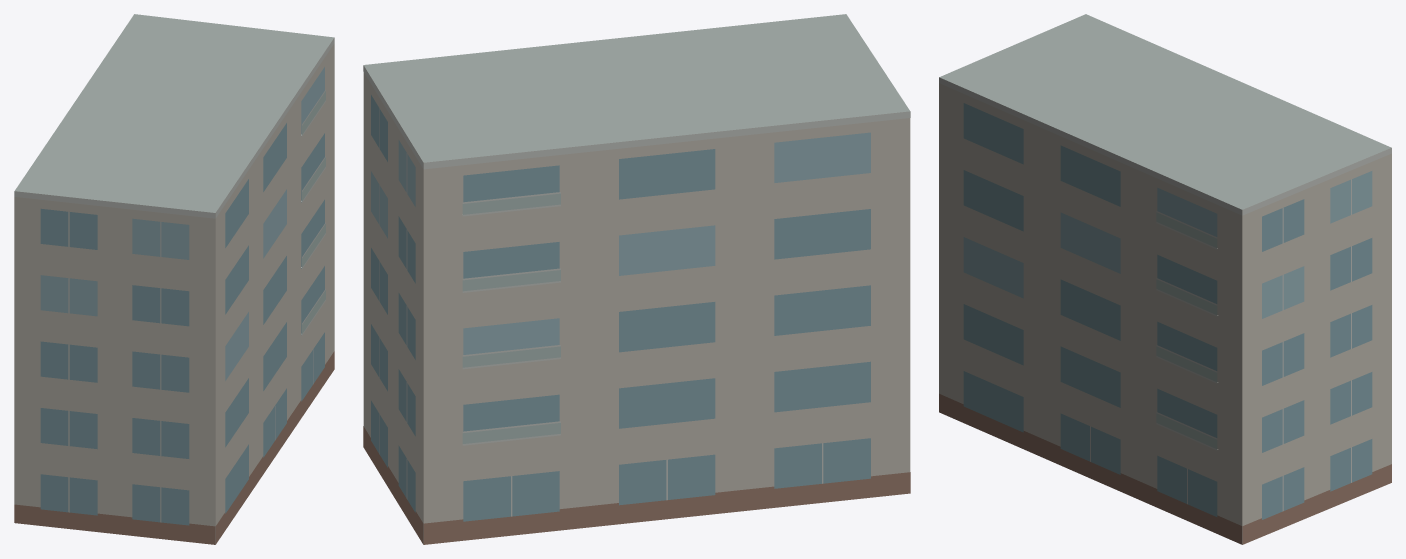
The model's file is survey-upis-32972222.glb.
The picture shows the model from 3 angles, left to right: view 1: azimuth 30°, elevation 25°; view 2: azimuth 150°, elevation 25°; view 3: azimuth 270°, elevation 25°; orthographic projection. The views are drawn at different scales.
Visible parts, largest first — view 1: survey-upis-32972222.tmp; view 2: survey-upis-32972222.tmp; view 3: survey-upis-32972222.tmp.
Boxes of the visible parts, <box> form: survey-upis-32972222.tmp: <box>14,14,334,544</box>; survey-upis-32972222.tmp: <box>363,14,910,544</box>; survey-upis-32972222.tmp: <box>939,14,1391,544</box>.
Bounding box in the file's own units: 17.69 × 14.1 × 17.27.
